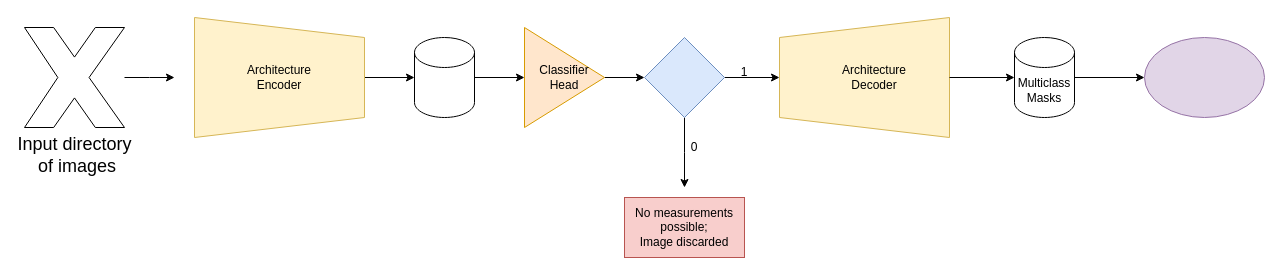
Some shapes in this 1282 by 275 pixel diagram are drawn without their labels. The shapes that lost their labels are listed below. From the top down, each one's centre as x and y in pixels, then its label:
At [444,77]: "Embedding".
At [684,77]: "Discard?".
At [1204,77]: "Phenotype Measurements with CV tools".
